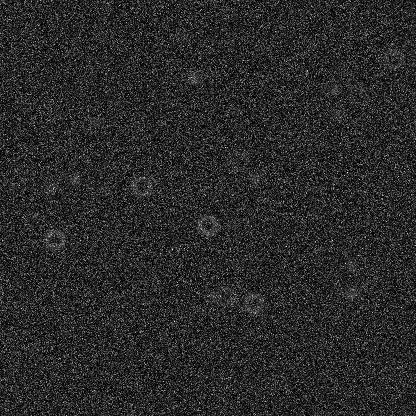Ring: (381, 47, 405, 71), (42, 227, 66, 251), (346, 83, 370, 107), (195, 212, 219, 236), (129, 174, 153, 198), (241, 291, 265, 315), (214, 285, 238, 309), (226, 148, 250, 172)
Spot: (343, 286, 359, 302), (247, 170, 263, 186), (42, 179, 58, 195), (87, 113, 103, 129), (329, 106, 345, 122), (205, 289, 221, 305), (67, 172, 83, 188), (186, 69, 202, 85), (326, 81, 342, 97), (342, 257, 358, 273)
